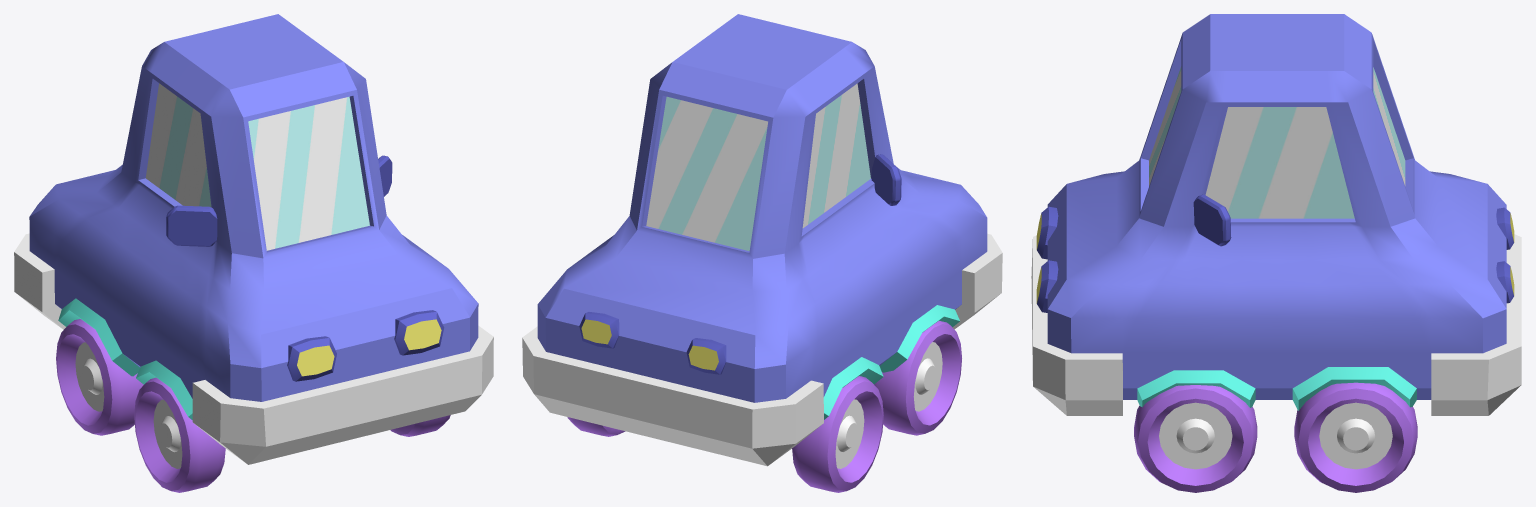
File: cute car.fbx
3 renders of one model, left to right at view 1: azimuth 30°, elevation 25°; view 2: azimuth 150°, elevation 25°; view 3: azimuth 270°, elevation 25°, orthographic. The views are drawn at different scales.
Parts seen in each view (by area): view 1: body, group5group4pCylinder201, group5pCylinder198group4, group5group4pCylinder202; view 2: body, group5pCylinder198group4, group5group4pCylinder201; view 3: body, group5group4pCylinder203, group5group4pCylinder202.
Boxes of the visible parts, x1,y1,x2,y2 form: body: (14, 14, 493, 464); group5group4pCylinder201: (134, 377, 225, 492); group5pCylinder198group4: (56, 319, 143, 435); group5group4pCylinder202: (390, 415, 450, 436); body: (522, 14, 1002, 466); group5pCylinder198group4: (792, 376, 883, 492); group5group4pCylinder201: (874, 321, 961, 435); body: (1031, 14, 1521, 415); group5group4pCylinder203: (1294, 382, 1417, 492); group5group4pCylinder202: (1134, 385, 1257, 492).
Size of the model in its own units: 29.57 by 39.12 by 44.84.
1 material, 1 textured.
